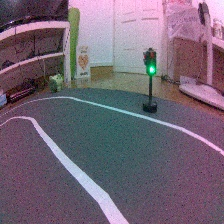green: (141, 47, 162, 116)
